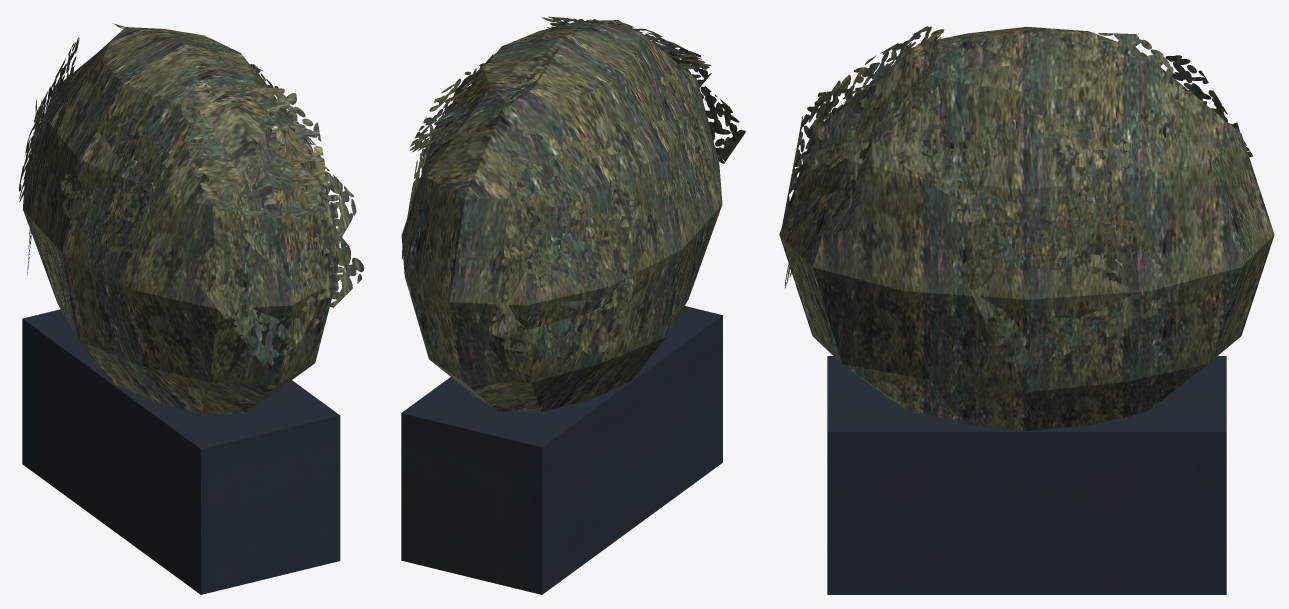
The model's file is SM_Molo_FiorieraAntracite_LOD1.fbx.
3 views of the same model, side by side, from view 1: azimuth 30°, elevation 25°; view 2: azimuth 150°, elevation 25°; view 3: azimuth 270°, elevation 25° (orthographic). The views are drawn at different scales.
Visible parts, largest first — view 1: SM_Molo_FiorieraAntracite_LOD1; view 2: SM_Molo_FiorieraAntracite_LOD1; view 3: SM_Molo_FiorieraAntracite_LOD1.
Boxes of the visible parts, x1,y1,x2,y2 form: SM_Molo_FiorieraAntracite_LOD1: (19, 23, 364, 594); SM_Molo_FiorieraAntracite_LOD1: (401, 16, 745, 594); SM_Molo_FiorieraAntracite_LOD1: (779, 26, 1274, 594).
Size of the model in its own units: 77 by 124 by 145.
Materials: 3 (3 with a texture image).
